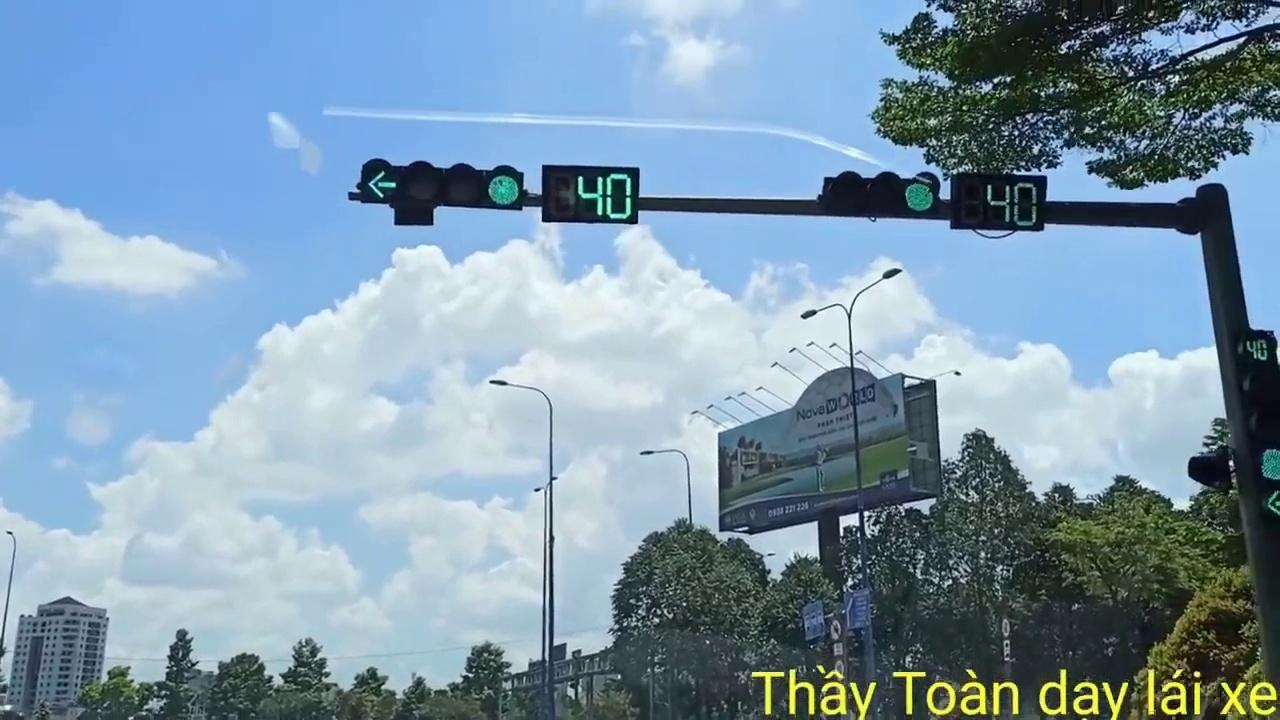Chỉ hướng đường: (842, 588, 872, 628)
Cấm xe máy: (830, 618, 844, 642)
Làn đường cho từng xe: (801, 600, 827, 640)
